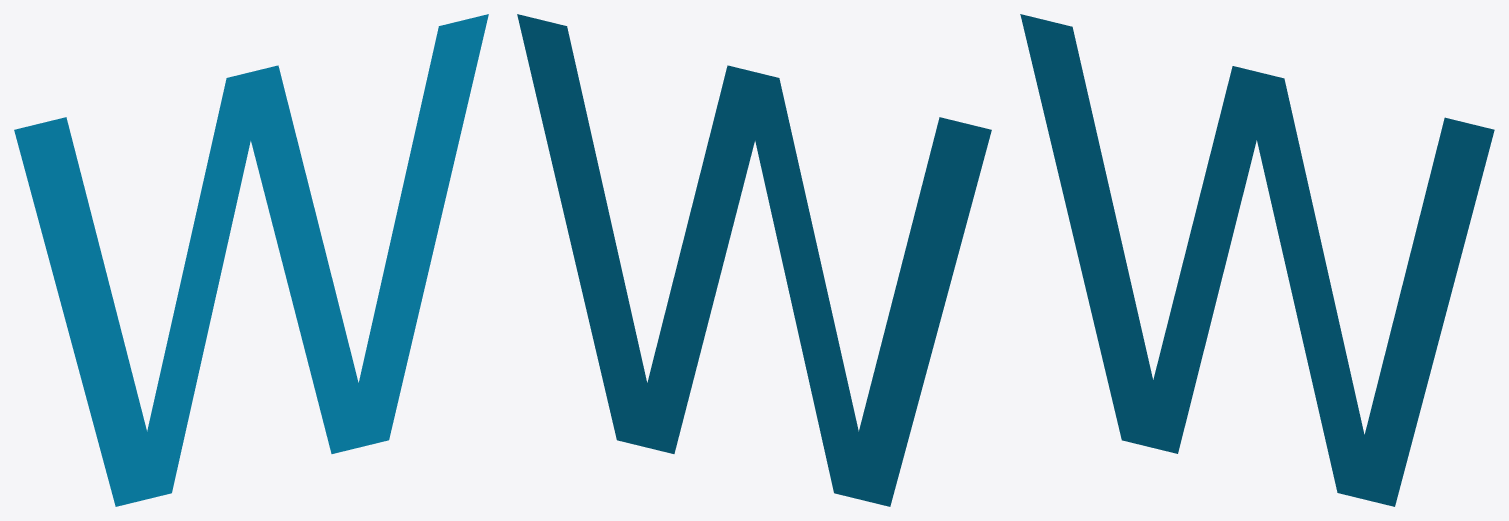
Rendered from original-42.obj.
3 views of the same model, side by side, from view 1: azimuth 30°, elevation 25°; view 2: azimuth 150°, elevation 25°; view 3: azimuth 330°, elevation 25° (orthographic).
Parts seen in each view (by area): view 1: mesh38/mesh38-geometry#mesh38-geometry; view 2: mesh38/mesh38-geometry#mesh38-geometry; view 3: mesh38/mesh38-geometry#mesh38-geometry.
Part boxes in pixels (x1,y1,x2,y2): mesh38/mesh38-geometry#mesh38-geometry: (14, 14, 488, 506); mesh38/mesh38-geometry#mesh38-geometry: (517, 14, 991, 506); mesh38/mesh38-geometry#mesh38-geometry: (1020, 14, 1494, 506).
Bounding box in the file's own units: 0.0204 × 0.0165 × 0.
